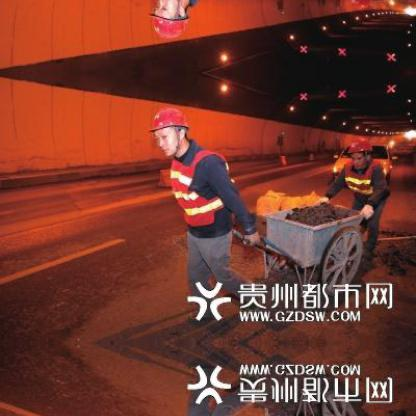helmet: (145, 102, 192, 156), (144, 0, 192, 41), (345, 132, 373, 169), (345, 0, 374, 11)
person: (140, 108, 272, 313), (331, 135, 386, 270), (140, 369, 273, 414)
